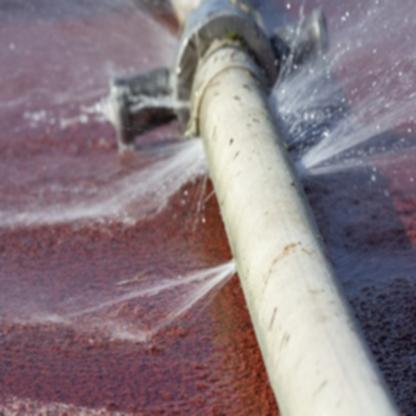burst: (264, 68, 344, 194), (171, 104, 222, 192), (198, 223, 263, 289)
